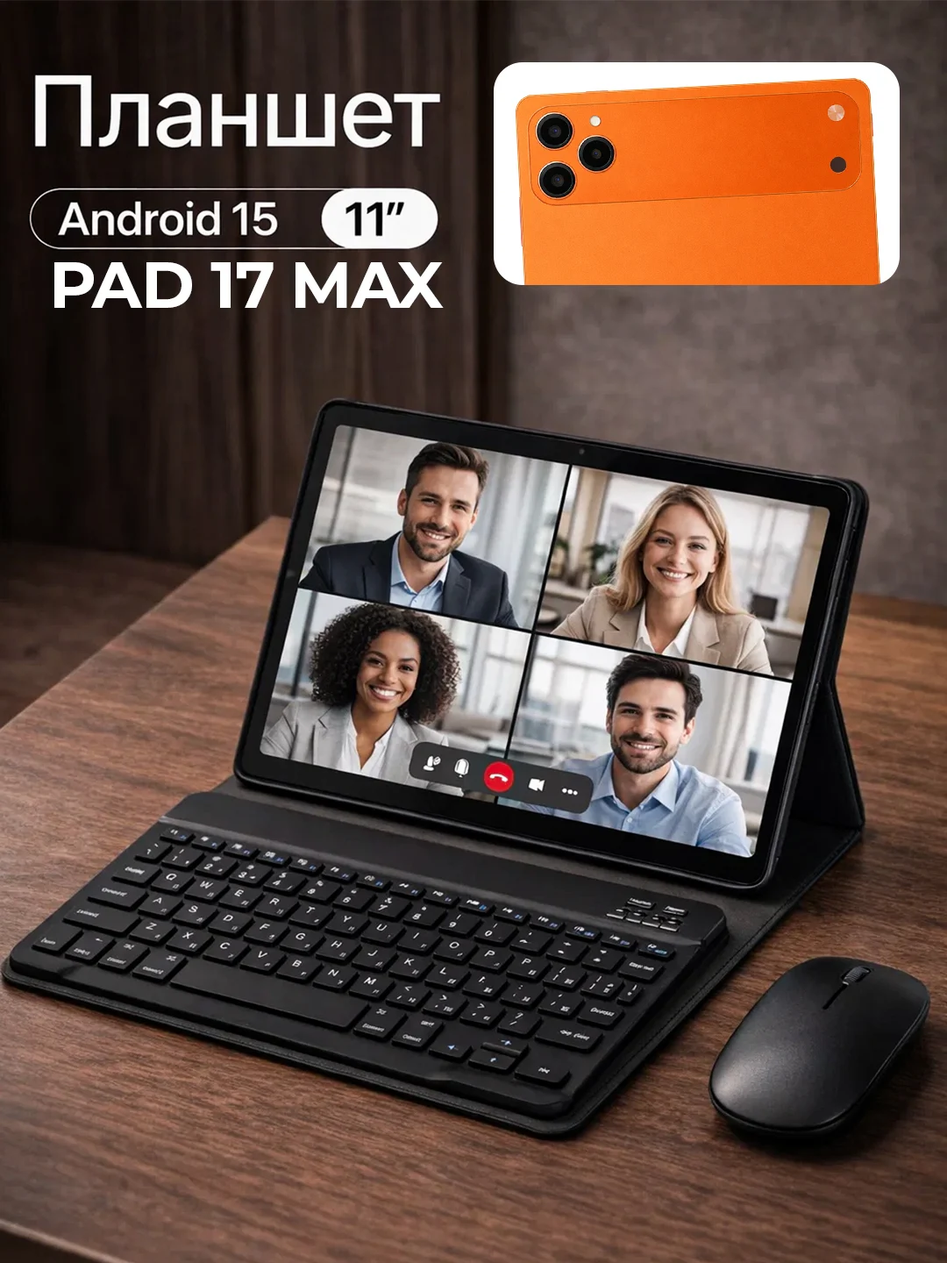laptop: (229, 398, 872, 902), (513, 77, 889, 286)
